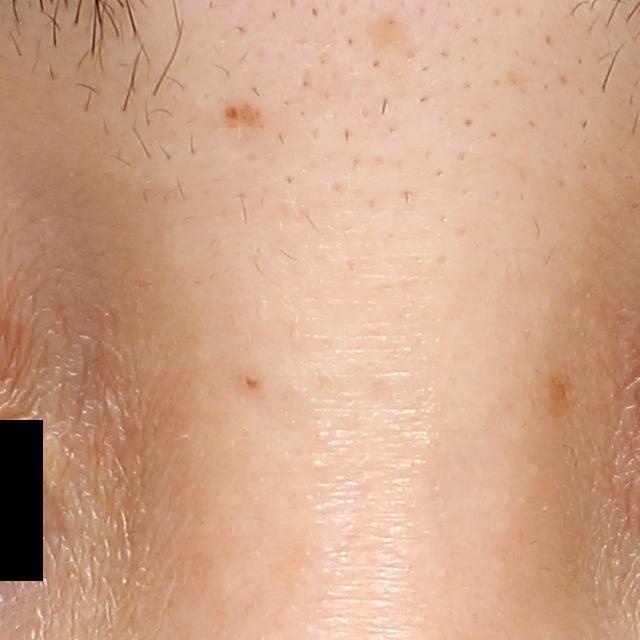melasma: (549, 367, 578, 418)
